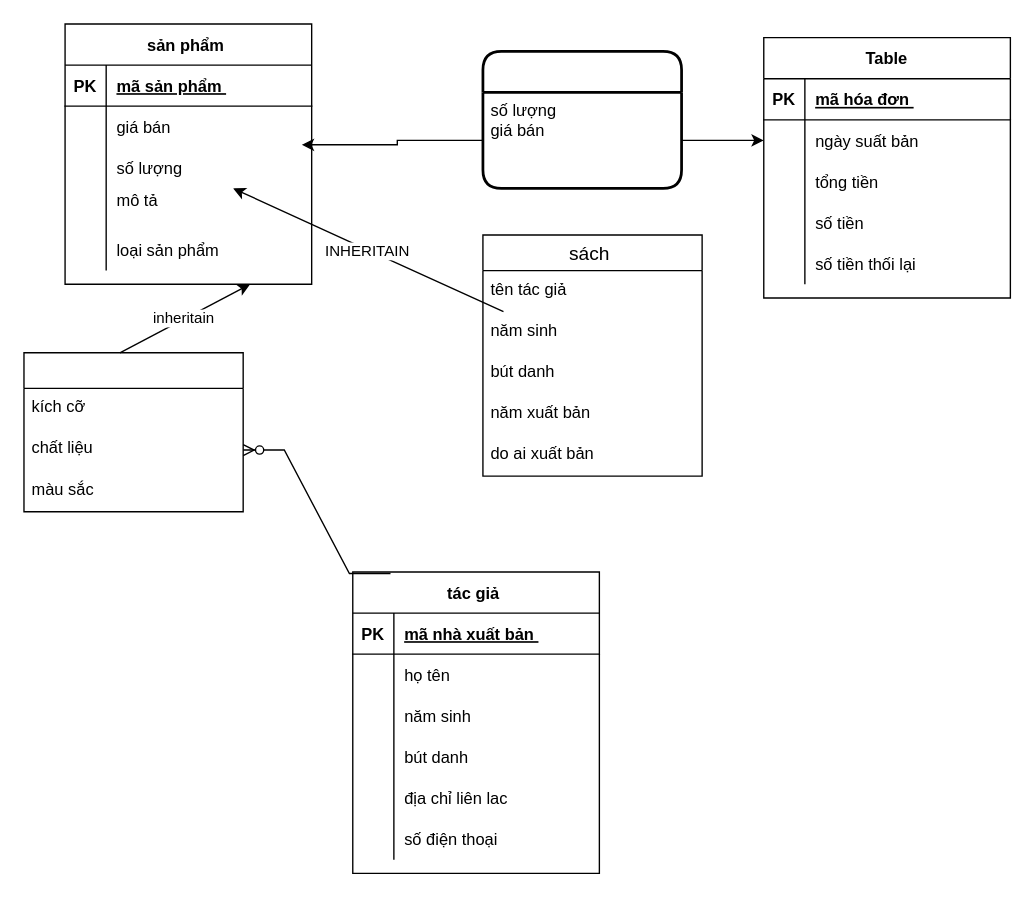
This 1034x897 diagram has some shape labels left out. The shapes that lost their labels are listed below. From the top down, each one's box as (x1, y1, x2, y2) in pixels, then its label:
(481, 49, 682, 189): CTHD
(23, 351, 243, 512): túi xách
